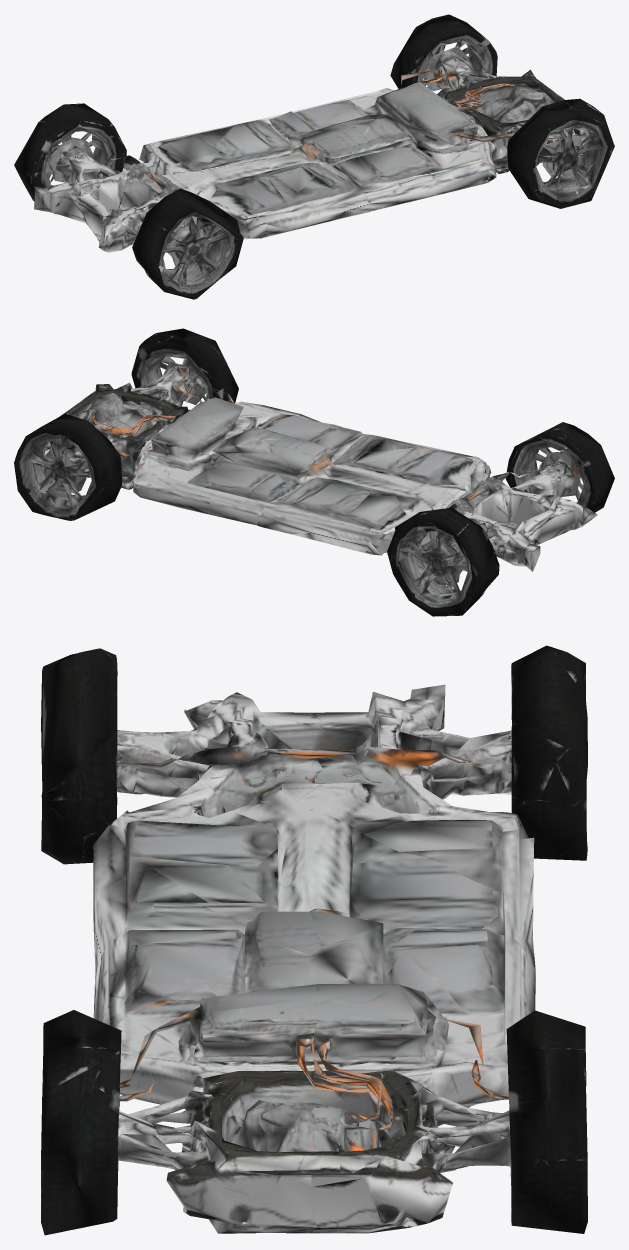
File: sasis-far.glb
The picture shows the model from 3 angles, top to bottom: view 1: azimuth 30°, elevation 25°; view 2: azimuth 150°, elevation 25°; view 3: azimuth 270°, elevation 25°; orthographic projection. The views are drawn at different scales.
Size of the model in its own units: 1.89 by 0.3779 by 0.8964.
1 material, 1 textured.
